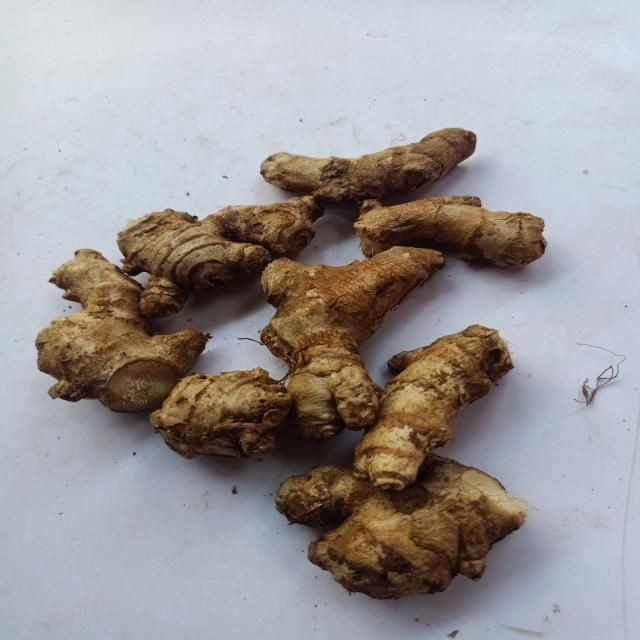Ginger: (275, 455, 526, 600), (260, 246, 447, 440), (34, 249, 209, 413), (354, 325, 513, 491), (116, 195, 323, 318), (260, 128, 476, 202), (354, 196, 548, 266), (149, 368, 291, 459)
